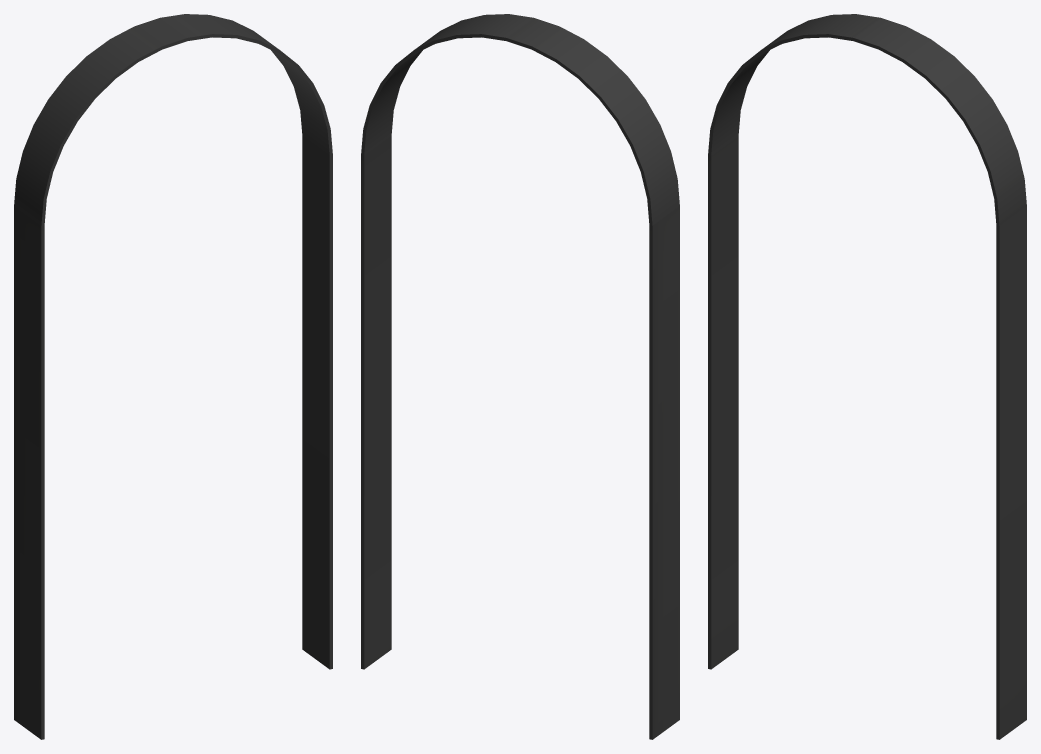
File: door_frame.glb
3 renders of one model, left to right at view 1: azimuth 30°, elevation 25°; view 2: azimuth 150°, elevation 25°; view 3: azimuth 330°, elevation 25°, orthographic.
Parts seen in each view (by area): view 1: door_frame_C; view 2: door_frame_C; view 3: door_frame_C.
Boxes of the visible parts, <box> form: door_frame_C: <box>14,14,332,739</box>; door_frame_C: <box>361,14,679,739</box>; door_frame_C: <box>708,14,1026,739</box>.
Size of the model in its own units: 0.92 by 2.01 by 0.15.
1 material, 1 textured.
